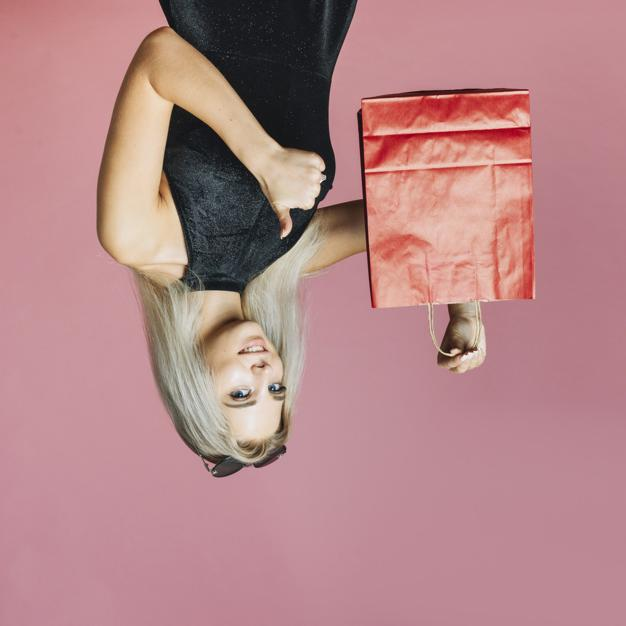thumbsdown: (276, 148, 327, 240)
